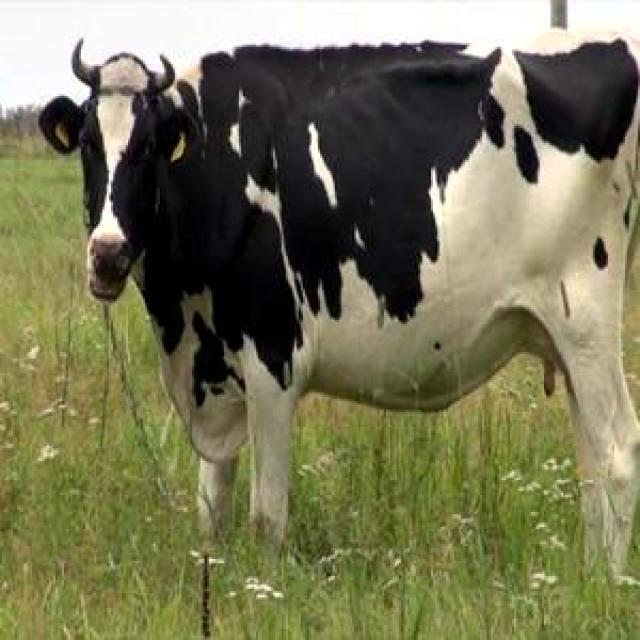COW: (40, 32, 640, 541)
